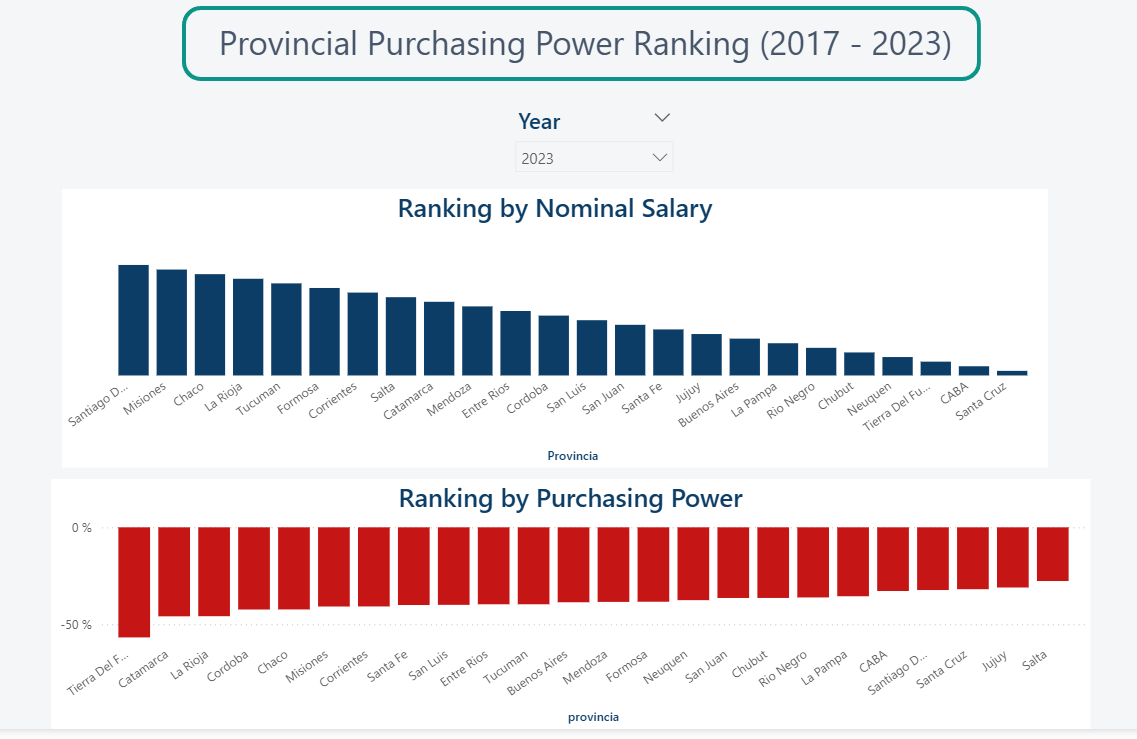

The page's visual inventory and layout, read from the dashboard file:
{"tool":"powerbi","page":{"name":"Provincial Purchasing Power","canvas":[1280,720],"ordinal":3},"visuals":[{"type":"clusteredColumnChart","title":"Ranking by Nominal Salary","fields":{"Y":["_Measures.Ranking Provincias por Sueldo Seleccionado"],"Category":["dim_provincia.provincia"]},"box":[191.6,194.5,959,271.4],"z":0},{"type":"clusteredColumnChart","title":"Ranking by Purchasing Power","fields":{"Category":["dim_provincia.provincia"],"Y":["_Measures.Purchasing Power - Province %"]},"box":[180.9,476.6,1010.6,243.2],"z":1000},{"type":"slicer","title":"Año","fields":{"Values":["dim_fecha.fecha.Variation.Date Hierarchy.Year"]},"box":[622.5,108,174.1,74.9],"z":2000},{"type":"textbox","box":[323.9,24.3,753.8,65.2],"z":3000},{"type":"shape","box":[308.3,16.5,777.1,72.9],"z":4000}]}

Visuals, with their boxes on the page's 1280x720 design canvas (x1, y1, x2, y2). These are canvas units, not pixel positions in the 1137x739 screenshot, which may show the page scaled, cropped or inside an application window:
"Ranking by Nominal Salary" clusteredColumnChart: bbox=(192, 194, 1151, 466)
"Ranking by Purchasing Power" clusteredColumnChart: bbox=(181, 477, 1192, 720)
"Año" slicer: bbox=(622, 108, 797, 183)
textbox: bbox=(324, 24, 1078, 90)
shape: bbox=(308, 16, 1085, 89)
